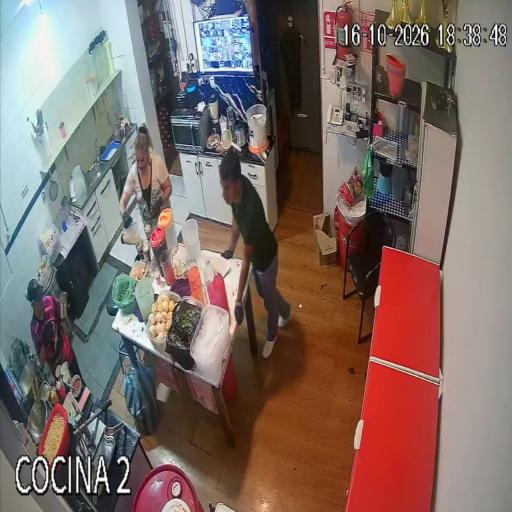Balde: (247, 104, 267, 153)
Cernidor: (221, 129, 241, 151)
Envase Ketchup: (57, 380, 66, 402)
Envase salsa: (71, 375, 82, 398)
Jarra1: (150, 227, 167, 274)
Jarra2: (158, 208, 177, 255)
Jarra3: (182, 219, 201, 260), (135, 278, 153, 320), (69, 165, 86, 205)
Licuadora: (208, 93, 221, 136)
Licuadora2: (234, 121, 247, 147)
Microondas: (171, 110, 209, 152)
Persona2: (120, 127, 171, 227)
Persona3: (220, 151, 291, 358)
Persona5: (26, 279, 81, 376)
Taper: (129, 261, 149, 282)
Taper2: (146, 290, 181, 352)
Taper3: (166, 297, 202, 370)
Taper4: (190, 305, 230, 381)
